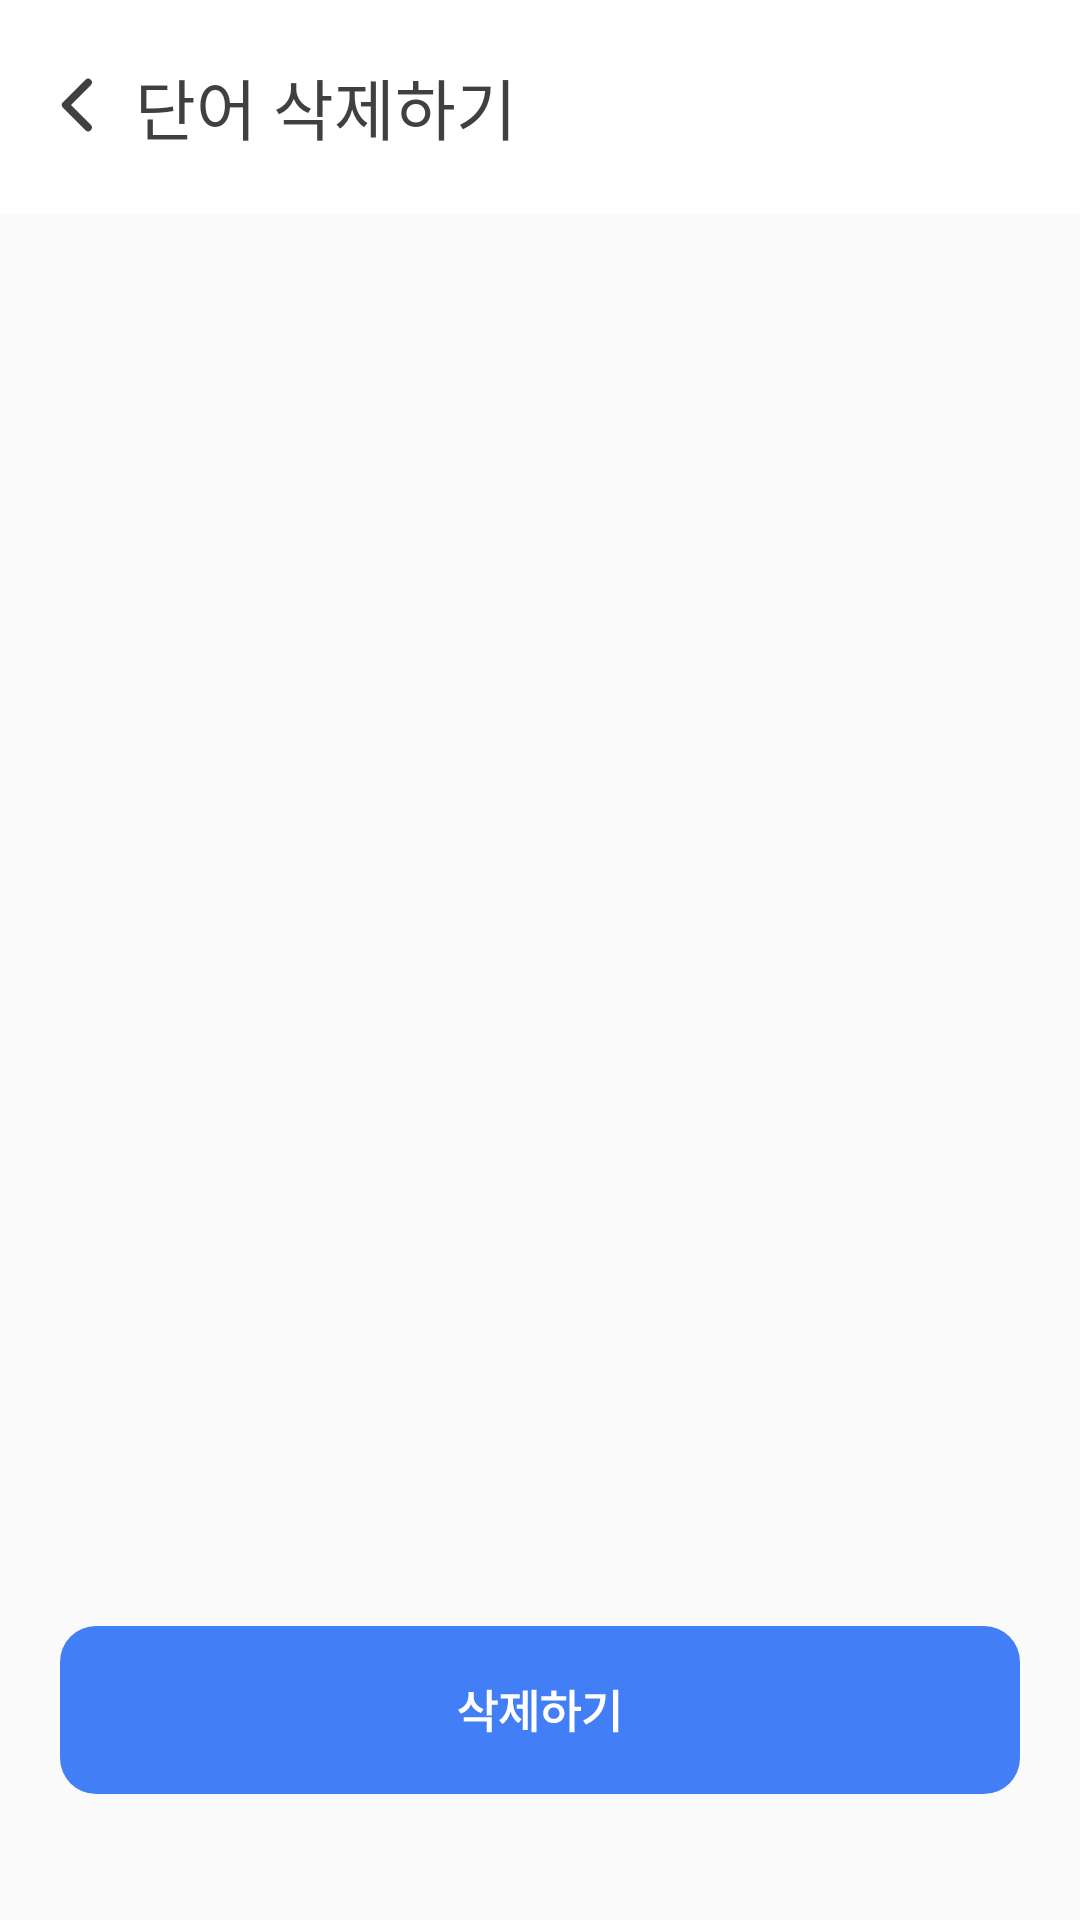

Where to tap for icons on this 1080 x 1920 app screen, as (x,y):
back: (76,105)
